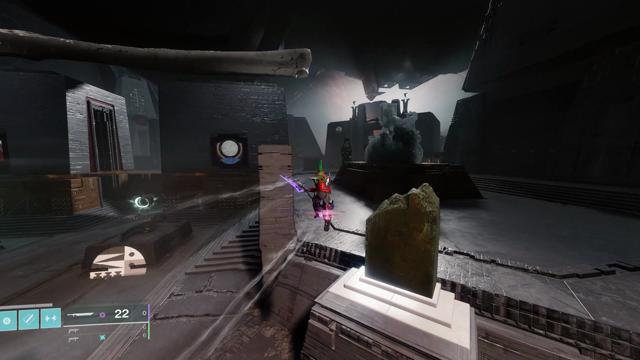commune: (335, 126, 343, 134)
pyramid: (0, 139, 5, 164)
traveler: (216, 139, 243, 164)
